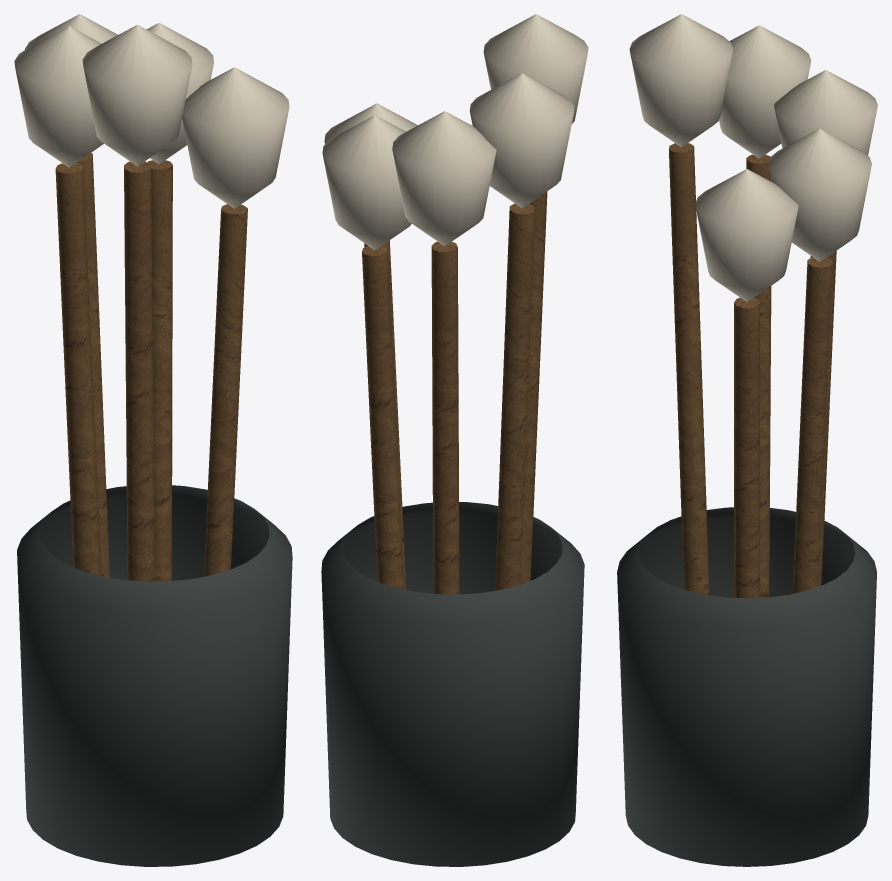
Rendered from sku_v23_brush_cup.glb.
3 renders of one model, left to right at view 1: azimuth 30°, elevation 25°; view 2: azimuth 150°, elevation 25°; view 3: azimuth 270°, elevation 25°, orthographic. The views are drawn at different scales.
Parts seen in each view (by area): view 1: sku_v23_brush_cup_V23_ceramic_graphite, sku_v23_brush_cup_CC0_Oak_veneer, sku_v23_brush_cup_V23_natural_canvas; view 2: sku_v23_brush_cup_V23_ceramic_graphite, sku_v23_brush_cup_V23_natural_canvas, sku_v23_brush_cup_CC0_Oak_veneer; view 3: sku_v23_brush_cup_V23_ceramic_graphite, sku_v23_brush_cup_V23_natural_canvas, sku_v23_brush_cup_CC0_Oak_veneer.
Part boxes in pixels (x1,y1,x2,y2): sku_v23_brush_cup_V23_ceramic_graphite: (17, 485, 292, 866); sku_v23_brush_cup_CC0_Oak_veneer: (55, 153, 247, 581); sku_v23_brush_cup_V23_natural_canvas: (14, 14, 289, 208); sku_v23_brush_cup_V23_ceramic_graphite: (321, 502, 584, 866); sku_v23_brush_cup_V23_natural_canvas: (322, 14, 588, 249); sku_v23_brush_cup_CC0_Oak_veneer: (362, 191, 547, 594); sku_v23_brush_cup_V23_ceramic_graphite: (617, 507, 876, 866); sku_v23_brush_cup_V23_natural_canvas: (629, 14, 877, 301); sku_v23_brush_cup_CC0_Oak_veneer: (669, 143, 836, 598).
Bounding box in the file's own units: 0.0638 × 0.198 × 0.0602.
Materials: 3 (1 with a texture image).
